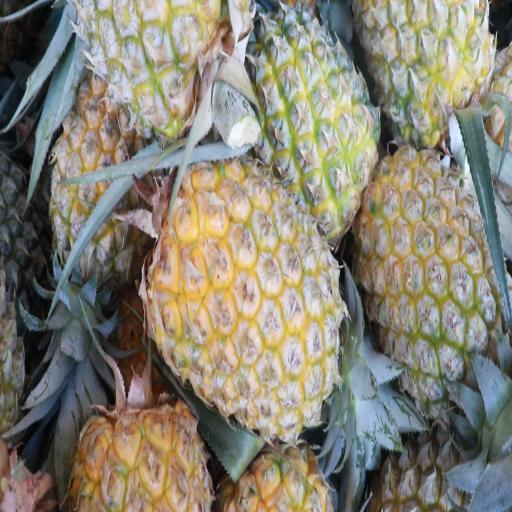------------------------------: (56, 72, 148, 279)
Pineapple - v8 v1: (154, 163, 339, 433), (363, 149, 501, 387), (246, 18, 371, 223), (363, 0, 498, 149)
